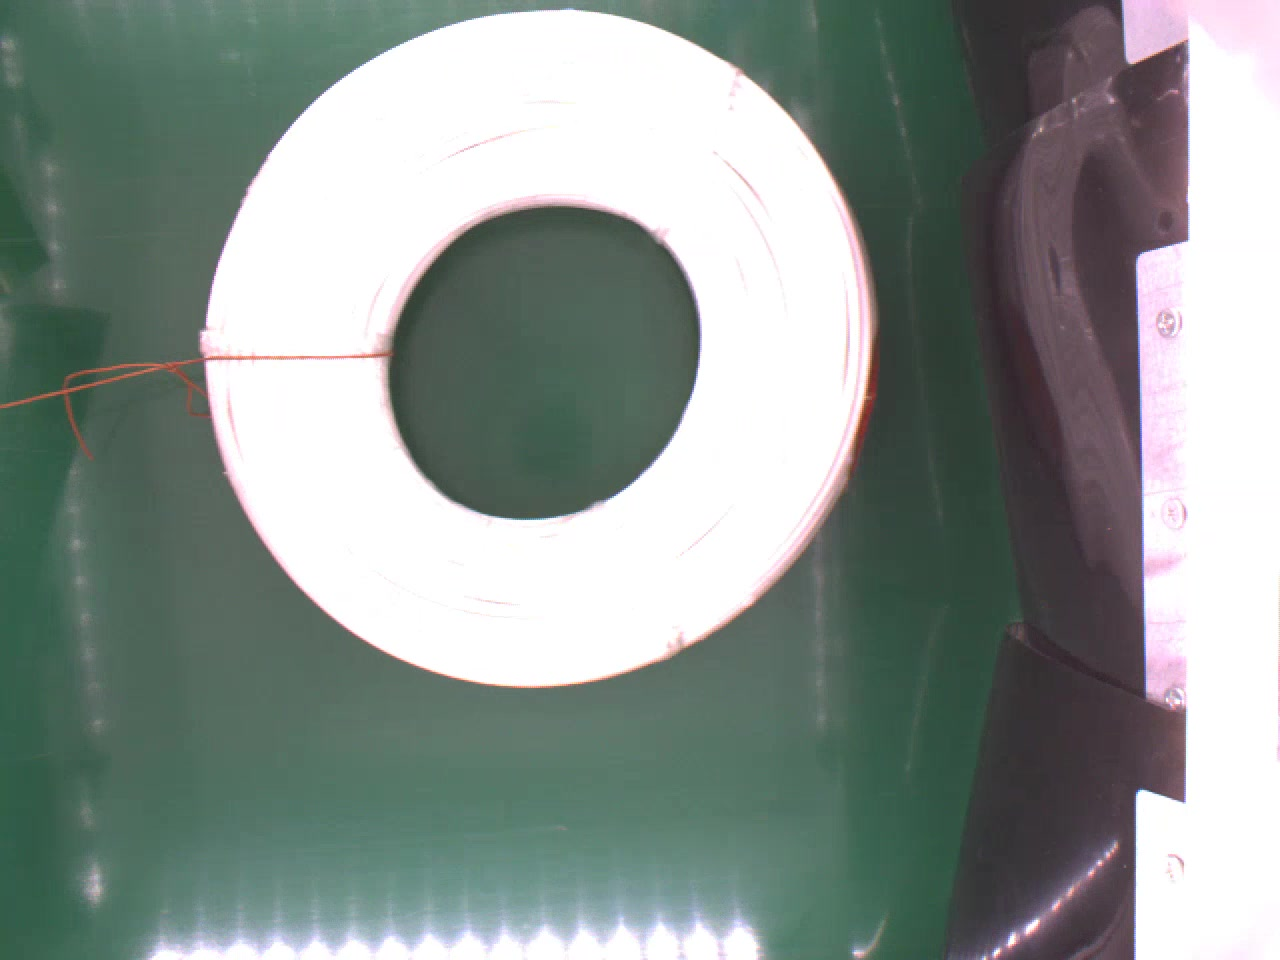white: (199, 8, 875, 691)
